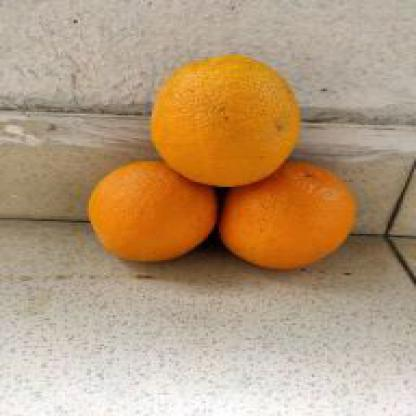orange: (145, 50, 301, 186), (80, 155, 219, 266), (218, 159, 356, 270)
